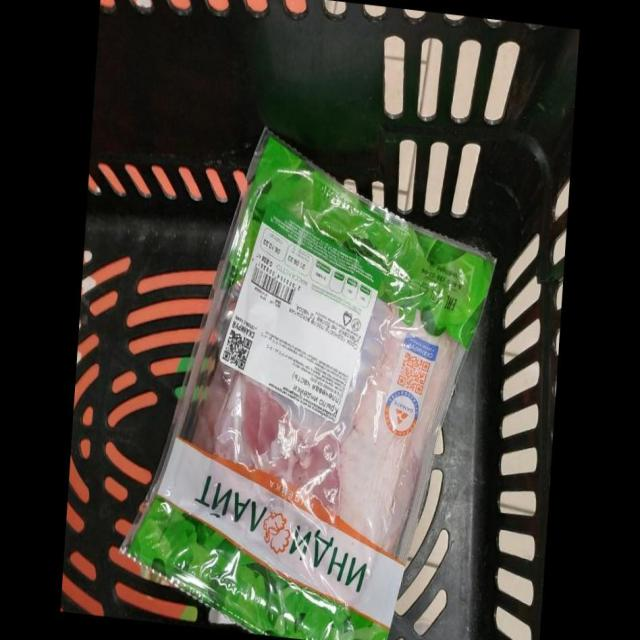Meat: (126, 131, 494, 640)
